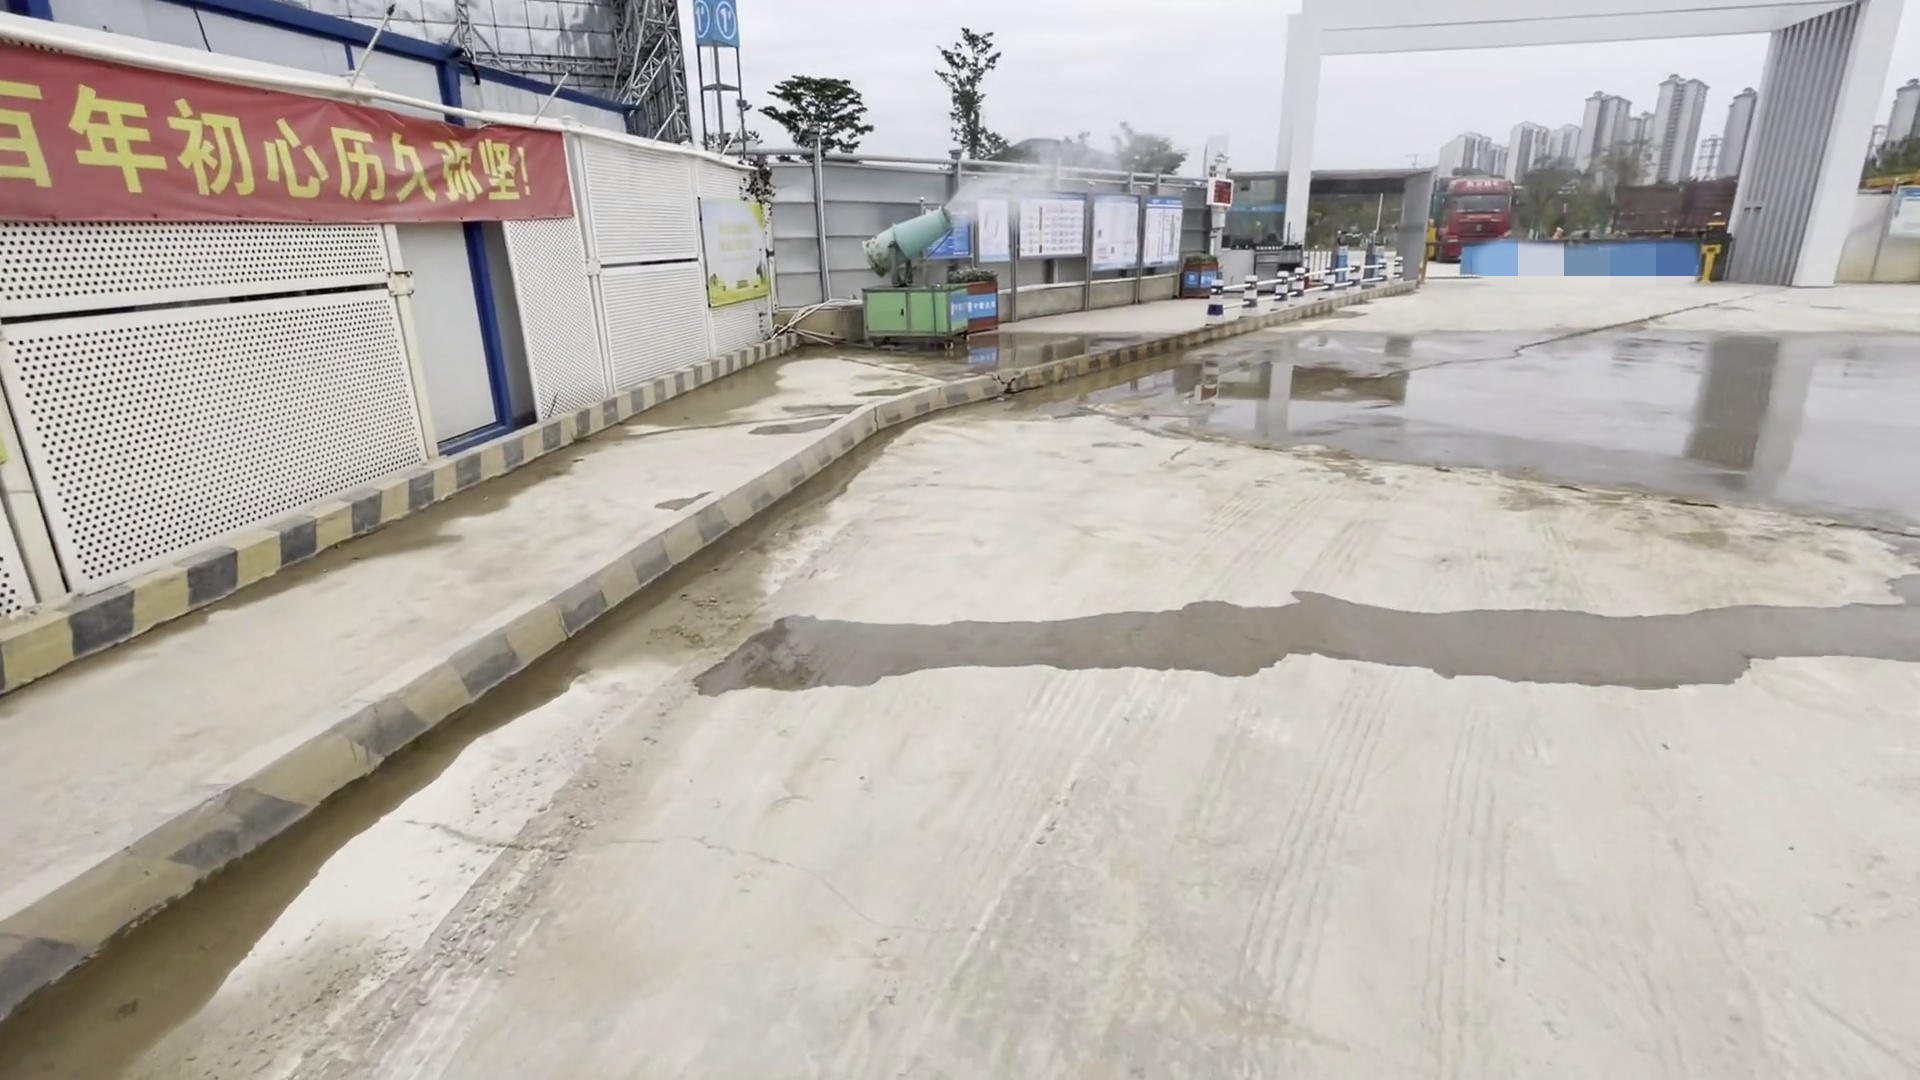slogan: (3, 40, 560, 218)
